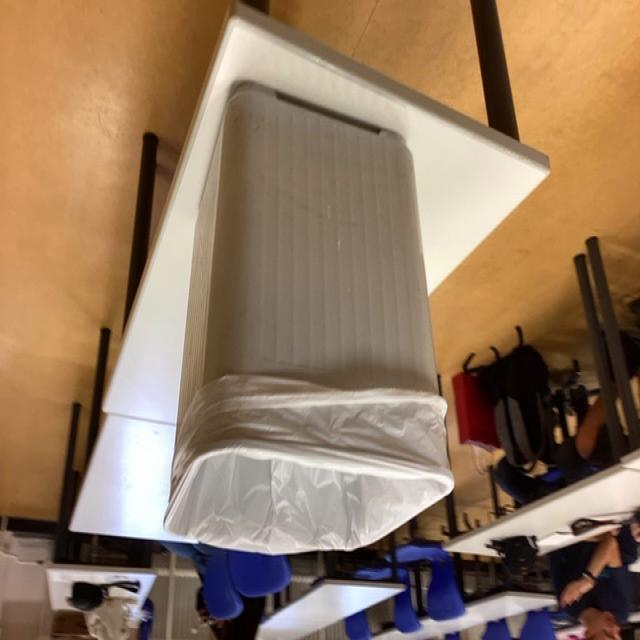garbage container: (117, 87, 482, 588)
